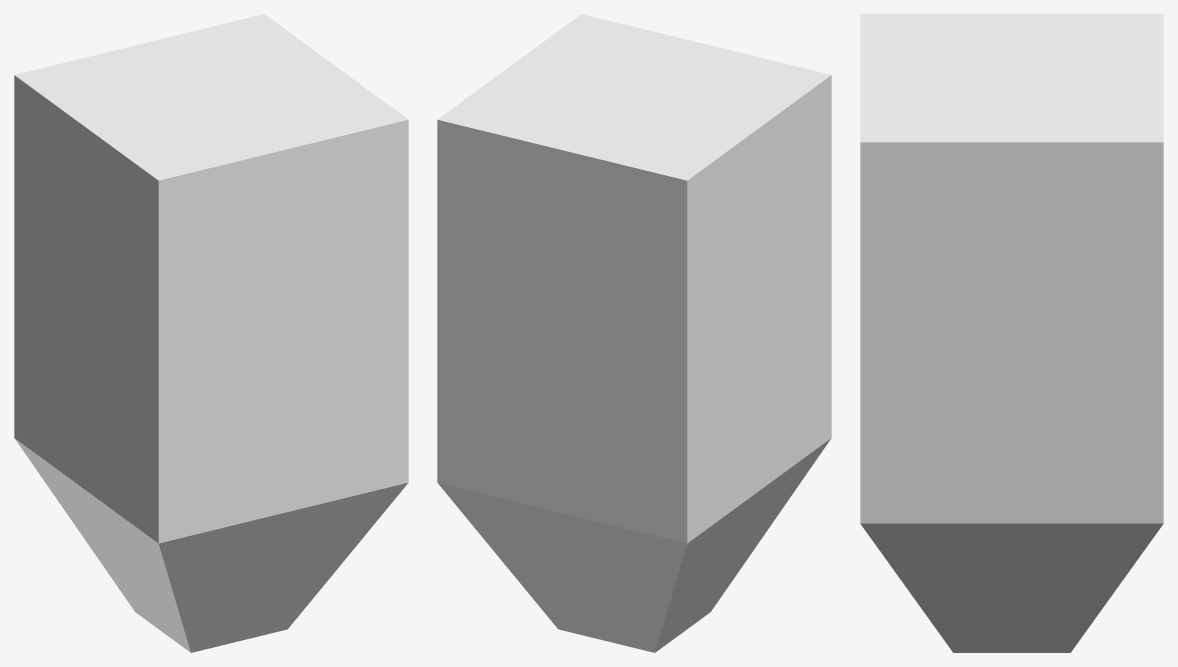
Rendered from body.gltf.
The picture shows the model from 3 angles, left to right: view 1: azimuth 30°, elevation 25°; view 2: azimuth 150°, elevation 25°; view 3: azimuth 270°, elevation 25°; orthographic projection. The views are drawn at different scales.
Visible parts, largest first — view 1: Body; view 2: Body; view 3: Body.
Boxes of the visible parts, left/top/right/bottom form: Body: left=14, top=14, right=408, bottom=652; Body: left=437, top=14, right=831, bottom=652; Body: left=860, top=14, right=1163, bottom=652.
Size of the model in its own units: 2 by 4 by 2.
Materials: 1 (1 with a texture image).
